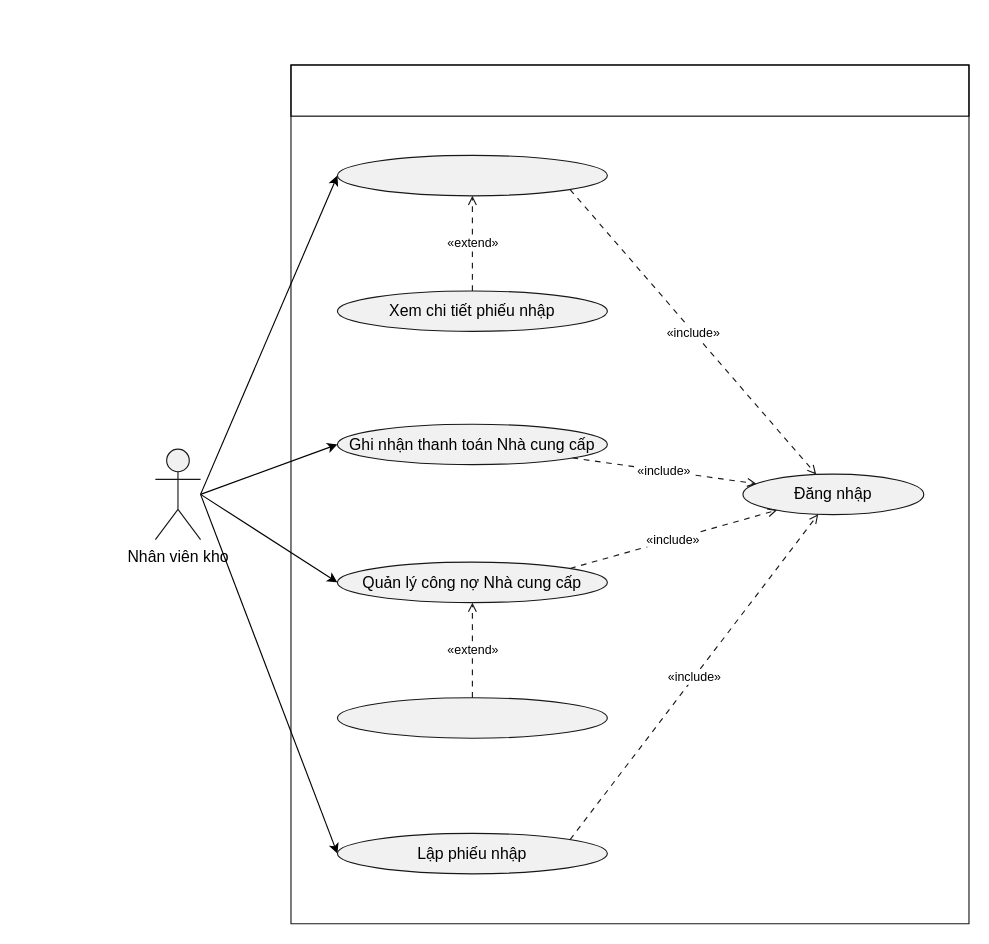
Some shapes in this 989 by 944 pixel diagram are drawn without their labels. The shapes that lost their labels are listed below. From the top down, each one's centre as x and y in pixels, then its label:
point 629,90: Quản lý nhập hàng
point 471,175: Tra cứu phiếu nhập
point 471,717: Cảnh báo nợ đến hạn
